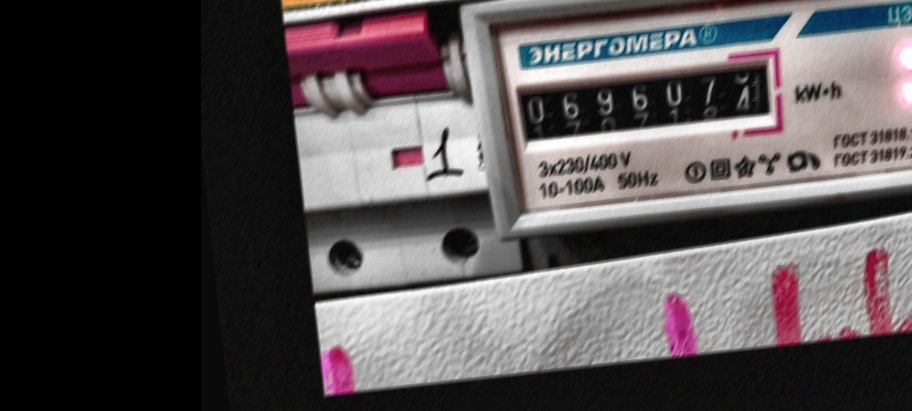0: (664, 76, 686, 108), (526, 94, 547, 124)
4: (734, 83, 753, 113)
6: (629, 81, 651, 112), (561, 89, 583, 119)
7: (700, 74, 720, 106)
9: (596, 86, 616, 116)
screen: (501, 40, 794, 160)
